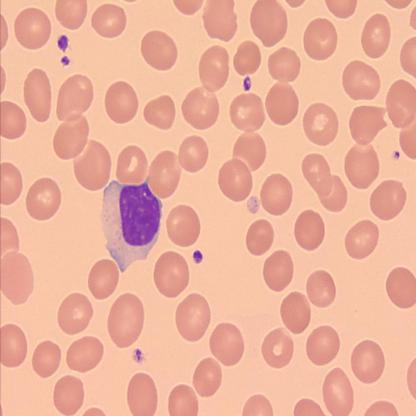Atypical lymphocyte: (101, 178, 164, 271)
